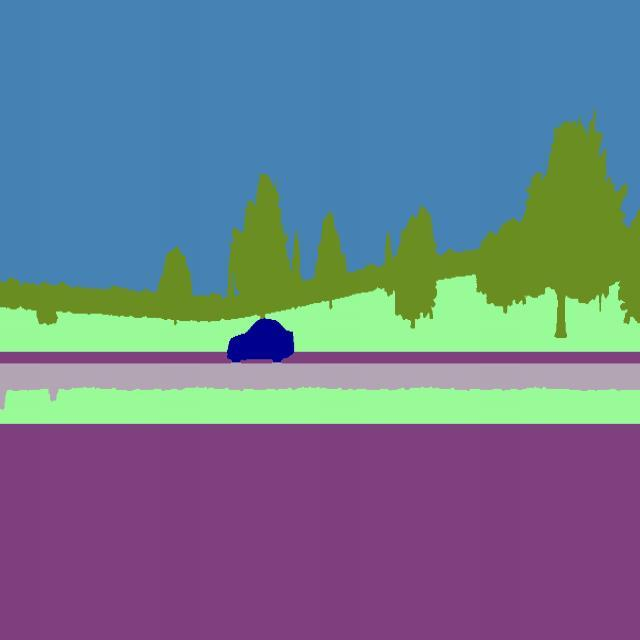safe: (226, 310, 298, 366)
